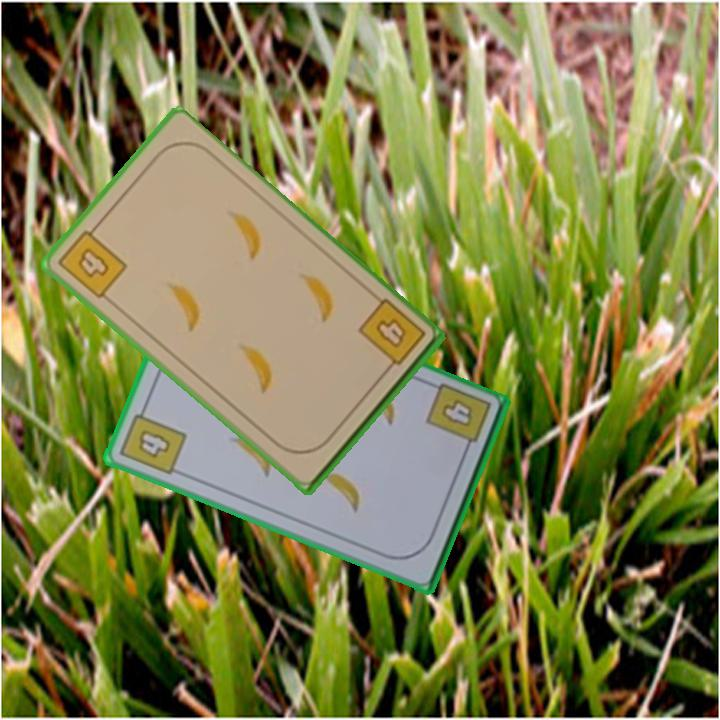4b: (54, 220, 131, 302), (354, 295, 429, 378), (116, 401, 190, 479), (422, 380, 494, 459)
